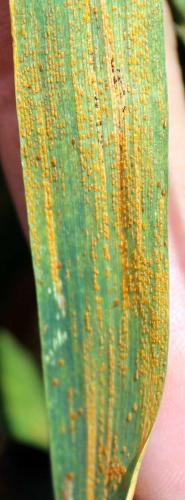Corn_Common_Rust: (4, 0, 178, 500)
